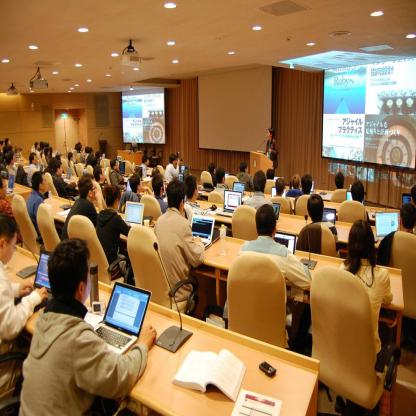board: (94, 281, 152, 354), (13, 249, 54, 312), (190, 214, 214, 247), (215, 190, 242, 219), (374, 212, 399, 241), (124, 199, 145, 228), (272, 230, 296, 253), (321, 208, 337, 227), (345, 190, 364, 205), (152, 179, 166, 198), (271, 185, 287, 199), (232, 182, 246, 197), (6, 173, 15, 194), (272, 203, 280, 222), (64, 166, 72, 184), (402, 192, 411, 206), (308, 179, 315, 195), (126, 177, 133, 191), (180, 163, 188, 174), (38, 162, 44, 172), (178, 173, 184, 182), (117, 156, 122, 164), (225, 172, 230, 180)
